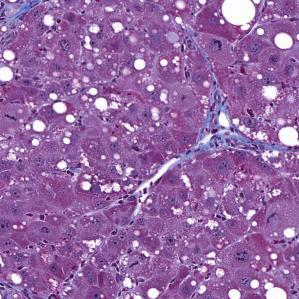fibrosis: (200, 103, 274, 161)
